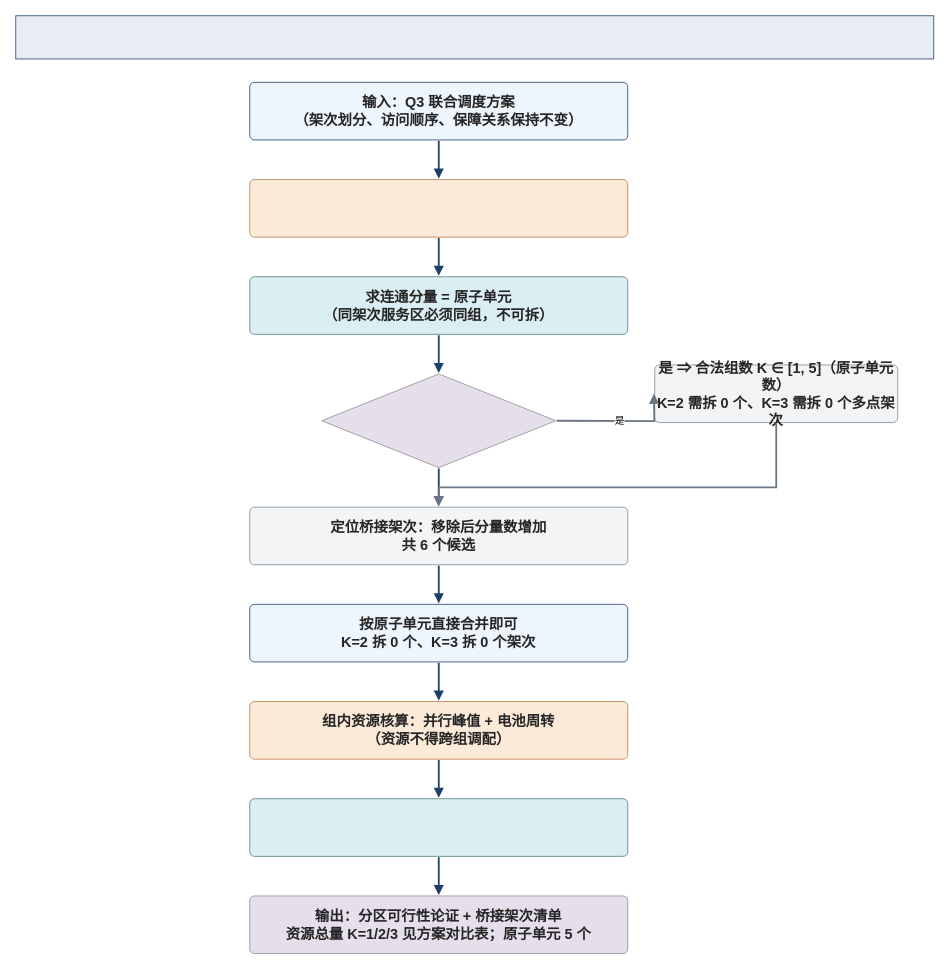
Image size: 950x969. Some labels were removed from this diagram. Here are the shapes that lost their labels. From the top down, the centre of each, then its label:
the point at 474,37: 问题四求解流程：救援任务分区与资源配置
the point at 438,208: 提取「架次—服务区」关联并构图 15 个服务区为顶点，同架次服务区连边
the point at 438,420: K=2 / K=3 能否由原子单元合并得到？
the point at 438,827: 四维对比：配置规模 / 冗余 / 组间均衡 / 缺口 资源总量与不均衡度见方案对比表
